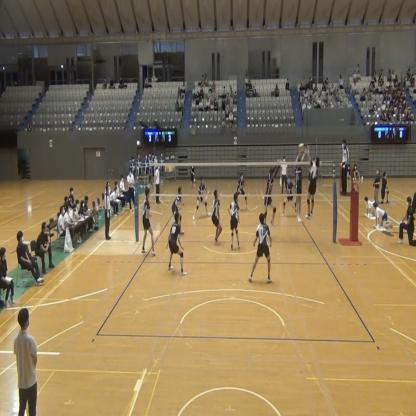spike: (296, 141, 320, 224)
